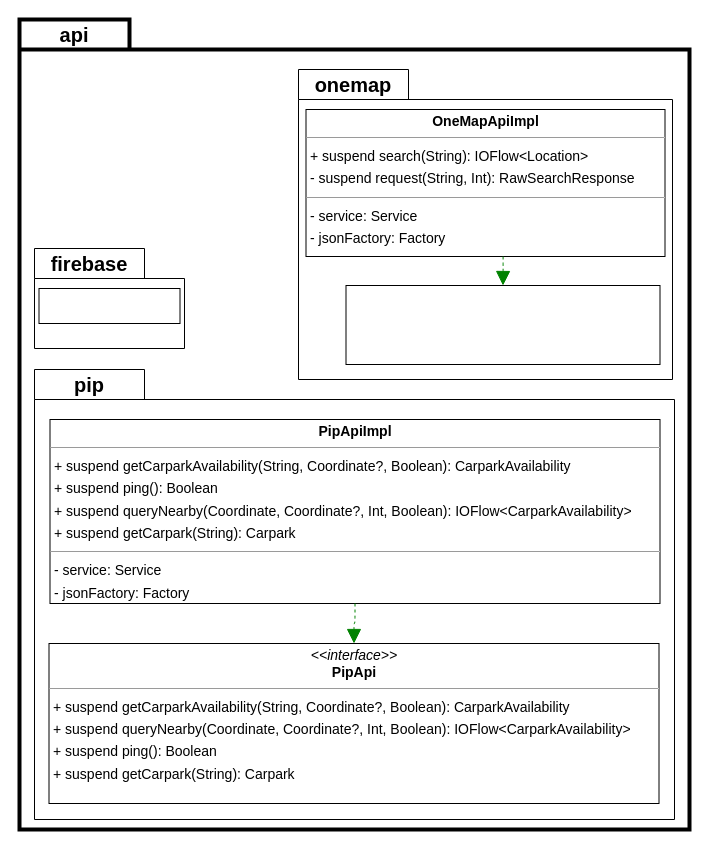
Some shapes in this 708 by 848 pixel diagram are drawn without their labels. Each missing label, with the centre of its shape:
"<<interface>> FirebaseApi" belongs at [109,306].
"<<interface>> OneMapApi + suspend search(String): IOFlow<Location>" belongs at [502,324].
